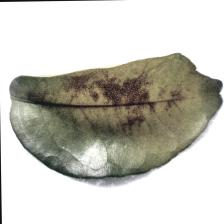black spot: (65, 74, 167, 124)
